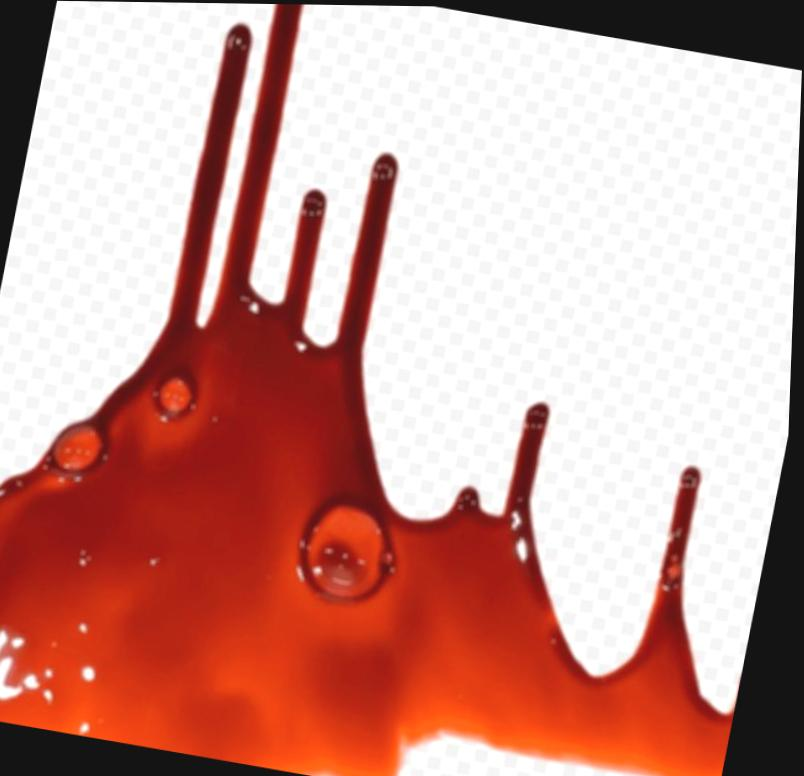Fire: (0, 3, 745, 776)
